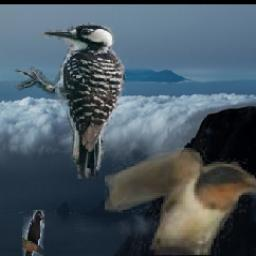Crow: (23, 210, 45, 256)
Swallow: (105, 148, 256, 255)
Woodpecker: (12, 22, 128, 179)
